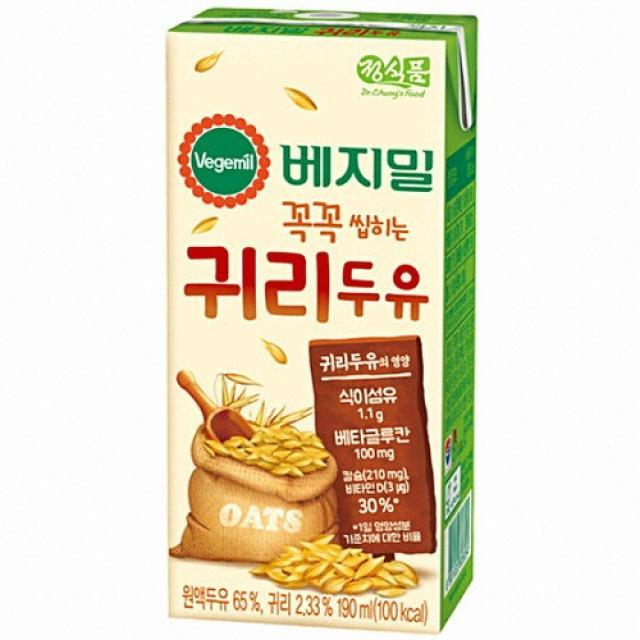Tetra: (147, 0, 493, 640)
